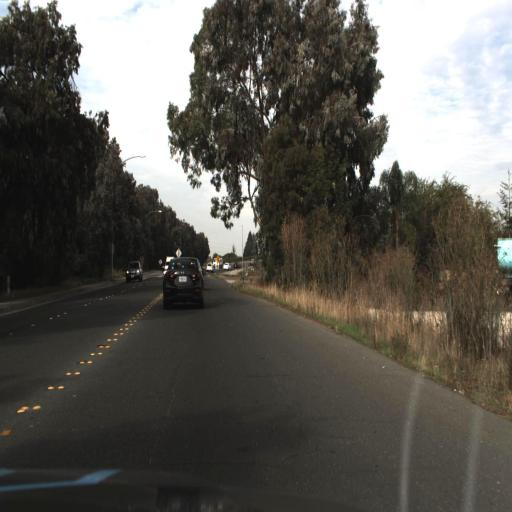car: (163, 254, 205, 309), (124, 259, 146, 284), (124, 259, 141, 283)
